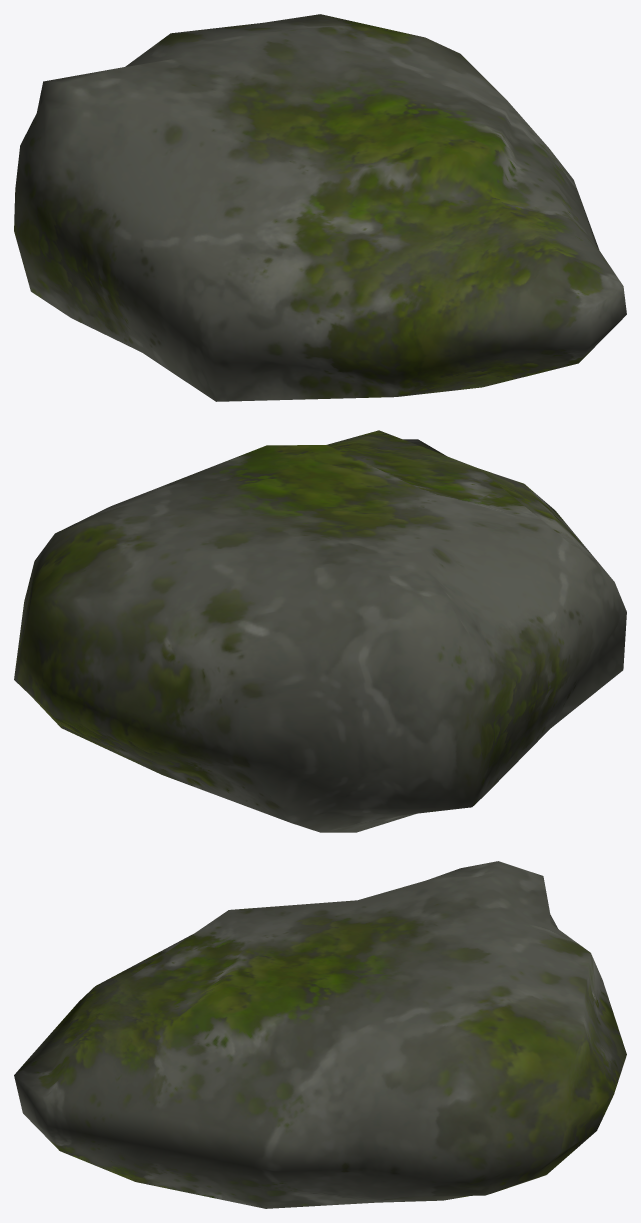
The model's file is Smooth_Boulder_04.fbx.
The picture shows the model from 3 angles, top to bottom: view 1: azimuth 30°, elevation 25°; view 2: azimuth 150°, elevation 25°; view 3: azimuth 270°, elevation 25°; orthographic projection. The views are drawn at different scales.
Visible parts, largest first — view 1: Smooth_Boulder_04; view 2: Smooth_Boulder_04; view 3: Smooth_Boulder_04.
Part boxes in pixels (box(x1,y1,x2,y2)): Smooth_Boulder_04: box(14, 14, 626, 401); Smooth_Boulder_04: box(14, 430, 626, 832); Smooth_Boulder_04: box(14, 861, 626, 1208).
Size of the model in its own units: 5.12 by 2.86 by 6.41.
1 material, 1 textured.
